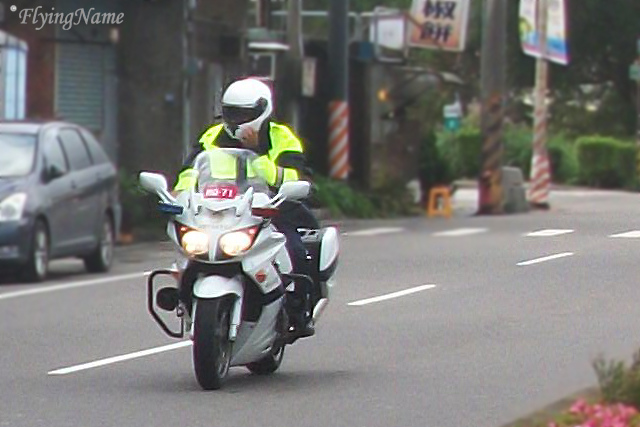helmet: (218, 85, 278, 127)
